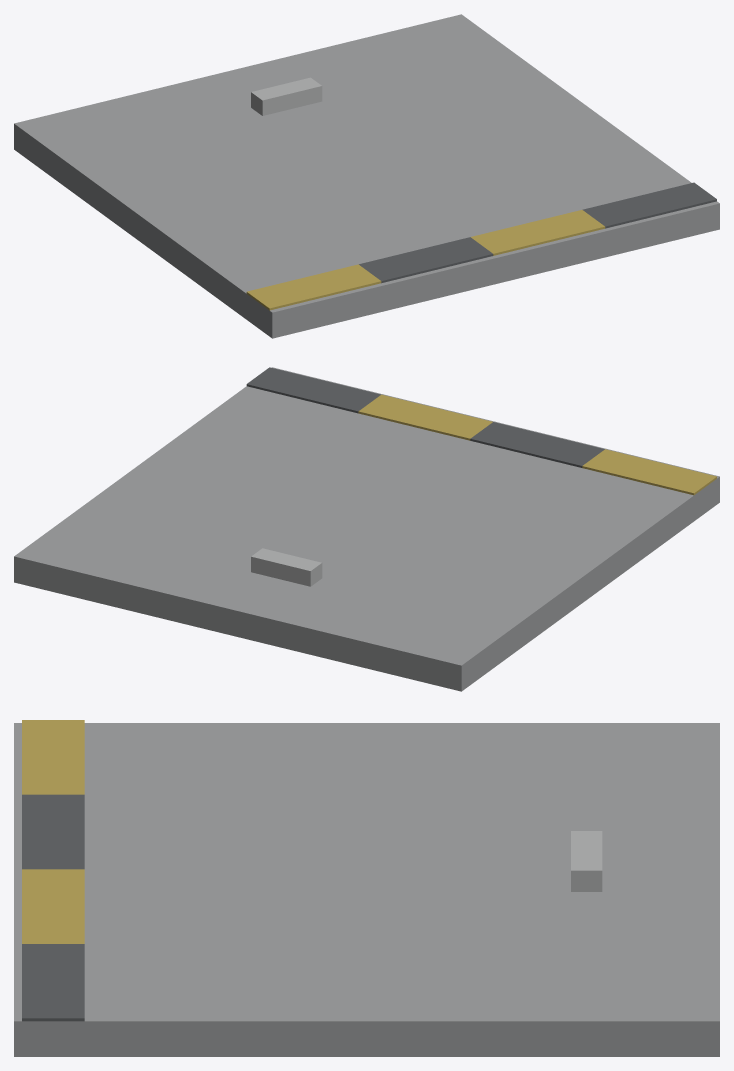
The model's file is floorHatch_steel_door.glb.
3 renders of one model, top to bottom at view 1: azimuth 30°, elevation 25°; view 2: azimuth 150°, elevation 25°; view 3: azimuth 270°, elevation 25°, orthographic. The views are drawn at different scales.
Parts seen in each view (by area): view 1: floorHatch_steel_door; view 2: floorHatch_steel_door; view 3: floorHatch_steel_door.
Boxes of the visible parts, x1,y1,x2,y2 form: floorHatch_steel_door: [14, 14, 719, 338]; floorHatch_steel_door: [14, 367, 719, 691]; floorHatch_steel_door: [14, 720, 719, 1056].
Bounding box in the file's own units: 0.9 × 0.08 × 0.9.
